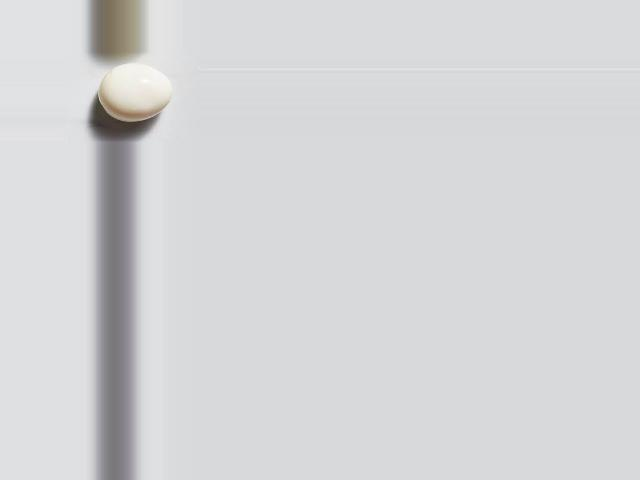egg: (97, 63, 171, 122)
